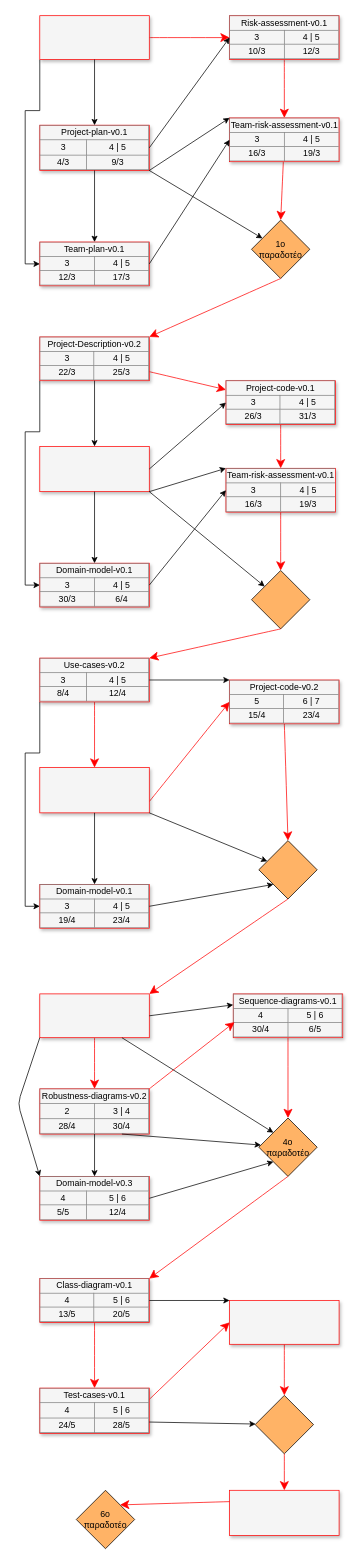
The diagram is 360 pixels wide and 1561 high, and some of its shapes have lost their labels. Each missing label, with the centre of its shape:
"2ο παραδοτέο" belongs at [280,599].
"3ο παραδοτέο" belongs at [287,869].
"5ο παραδοτέο" belongs at [284,1424].
"Project-code-v0.3 7 8 | 9 19/5 28/5" belongs at [284,1323].
"Project-Description-v0.1 2 3 | 4 1/3 3/3" belongs at [95,38].
"Robustness-diagrams-v0.1 4 5 | 6 9/4 16/4" belongs at [95,791].
"Use-cases-v0.1 4 5 | 6 23/3 30/3" belongs at [95,470].
"Use-cases-v0.3 2 3 | 4 26/4 28/4" belongs at [95,1016].
"v1.0 1 oo 31/5 4/6" belongs at [284,1514].
